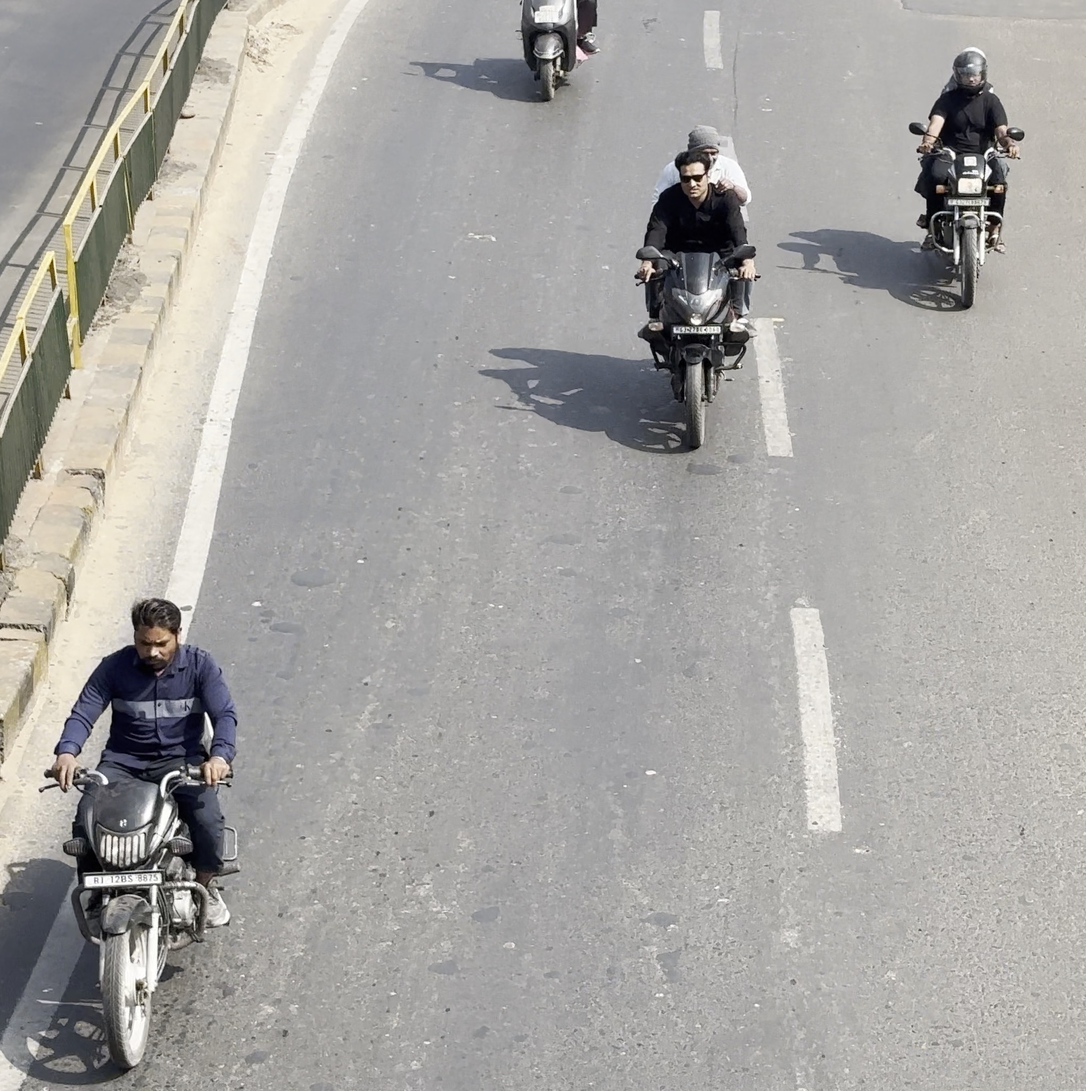BikeWithRider: (32, 589, 251, 1079), (623, 114, 770, 458), (899, 39, 1032, 317)
Helmet: (943, 41, 996, 99)
NoHelmet: (119, 591, 193, 680), (665, 144, 721, 205), (678, 118, 732, 168)
